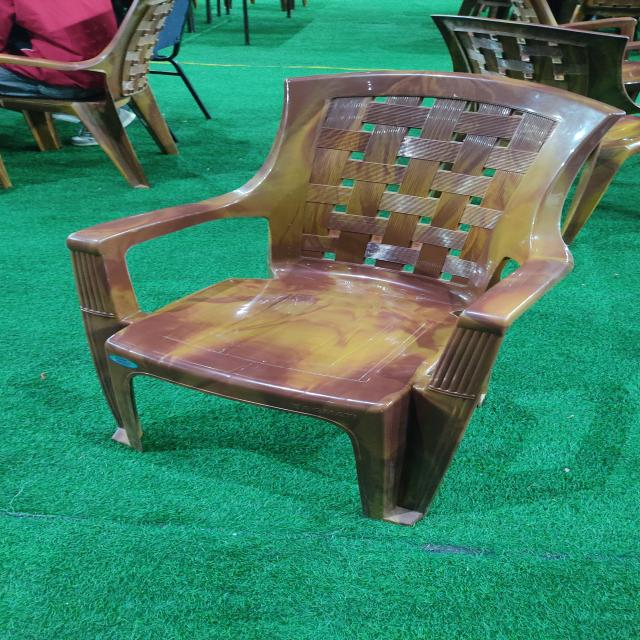Chair: (65, 70, 626, 526), (429, 13, 639, 245), (0, 1, 180, 190)
